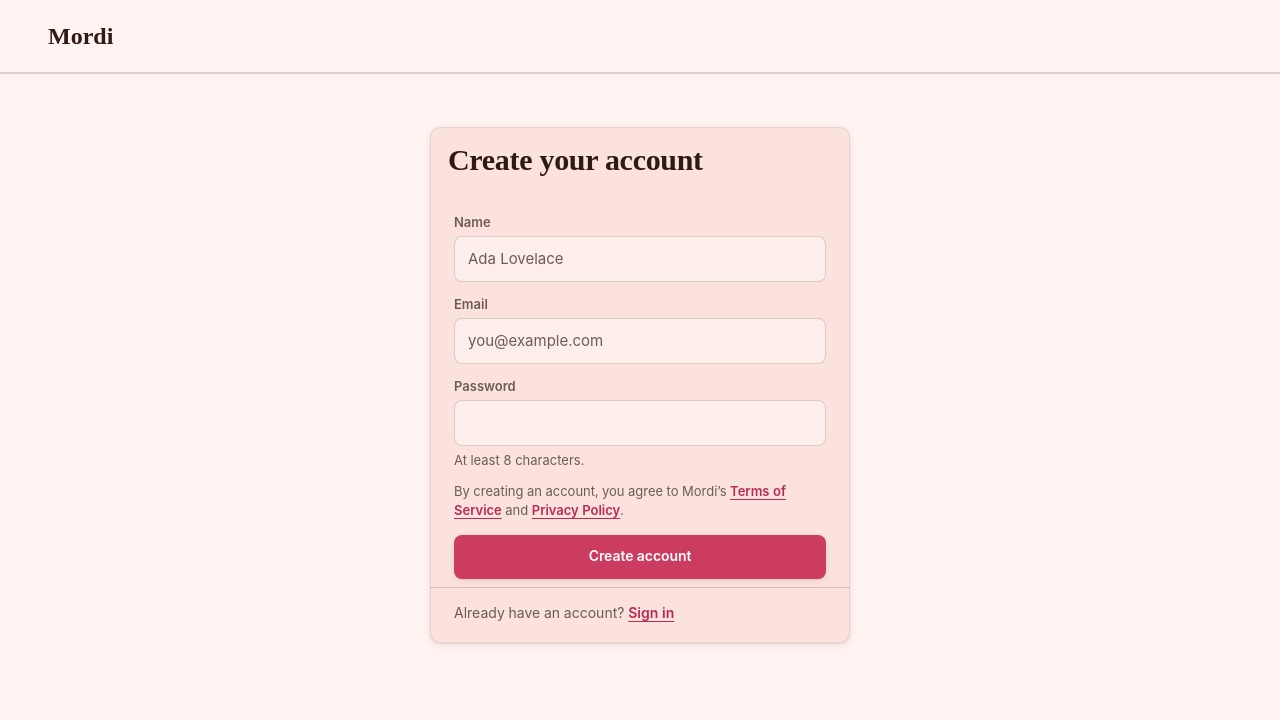
Test: Register › says to wait when the rate limit answers
This screenshot has width=1280, height=720.
Type "Test User" into the field labelled "Name" at (640, 259), box [454,236,826,282]
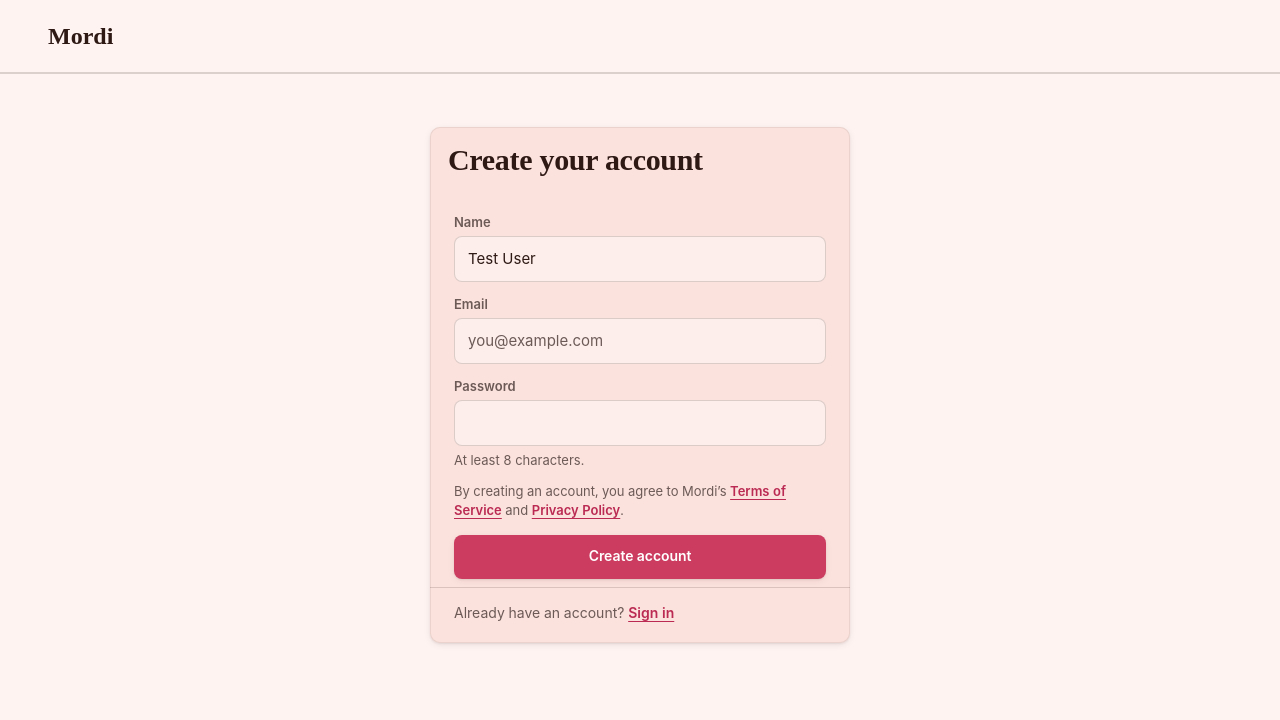
Type "user@example.com" into the field labelled "Email" at (640, 341), box [454,318,826,364]
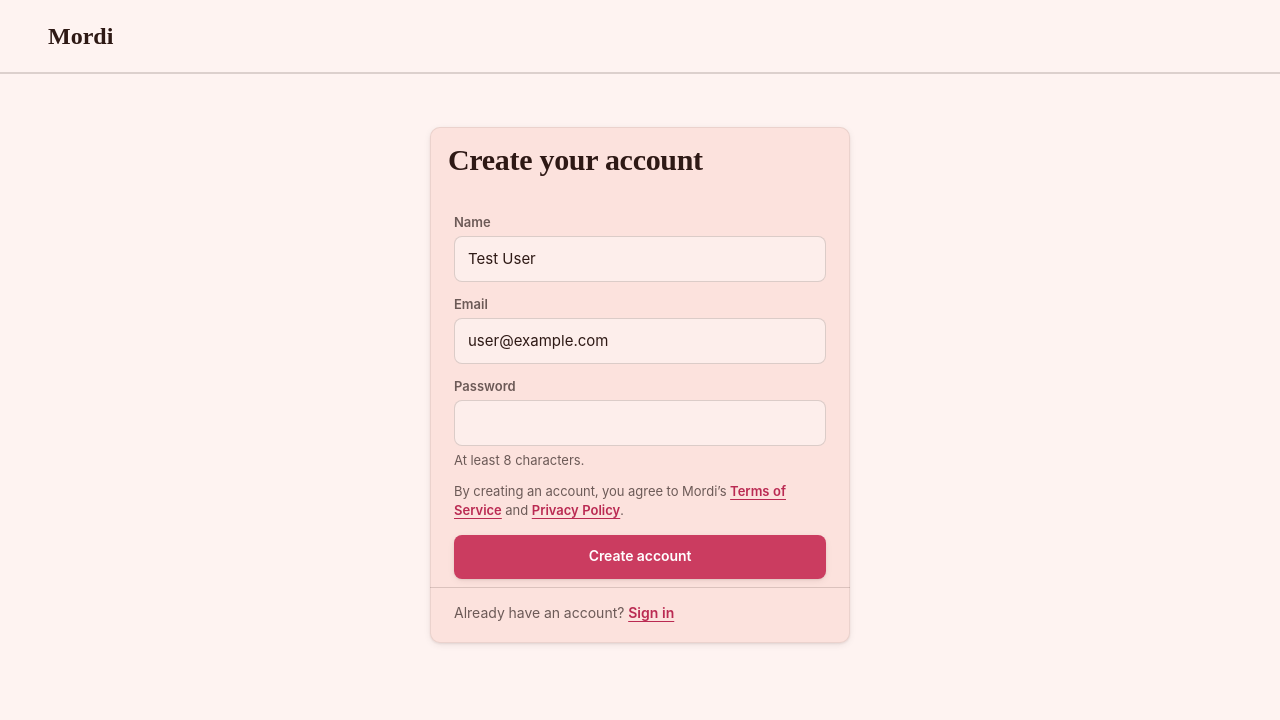
Type "correcthorse" into the password field labelled "Password" at (640, 423), box [454,400,826,446]
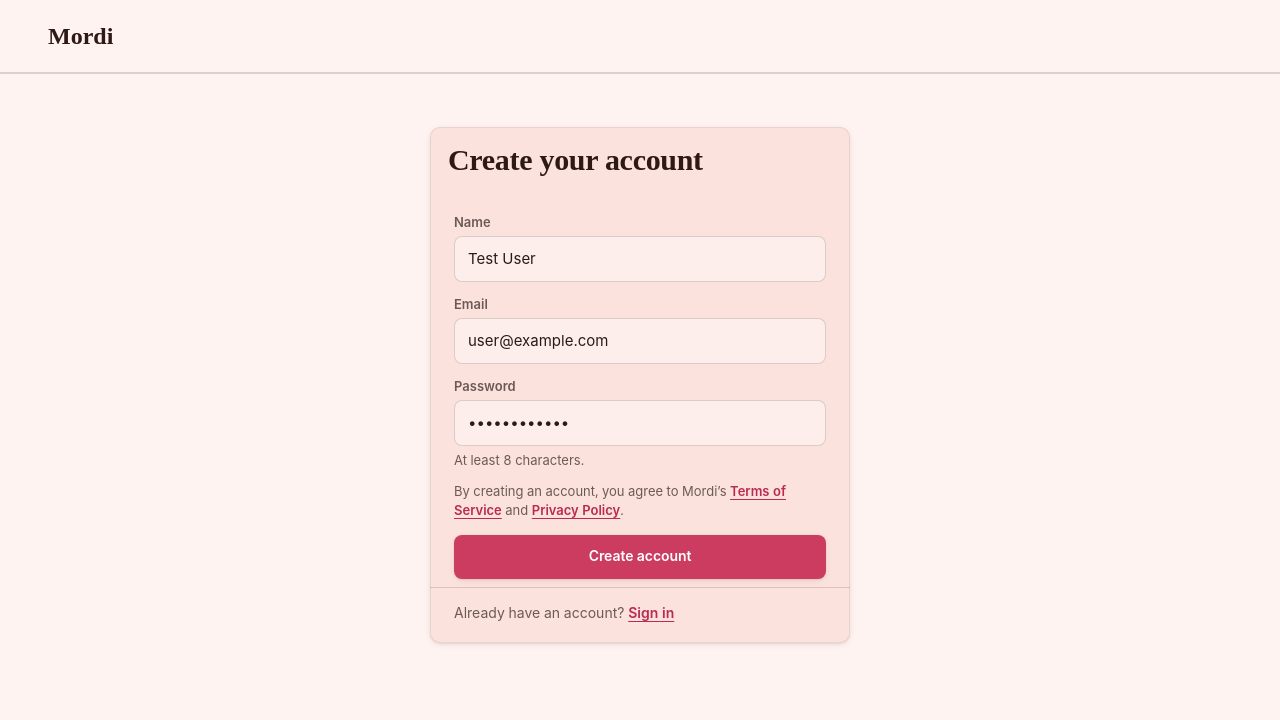
Click the button "Create account" at (640, 557), box [454,535,826,579]
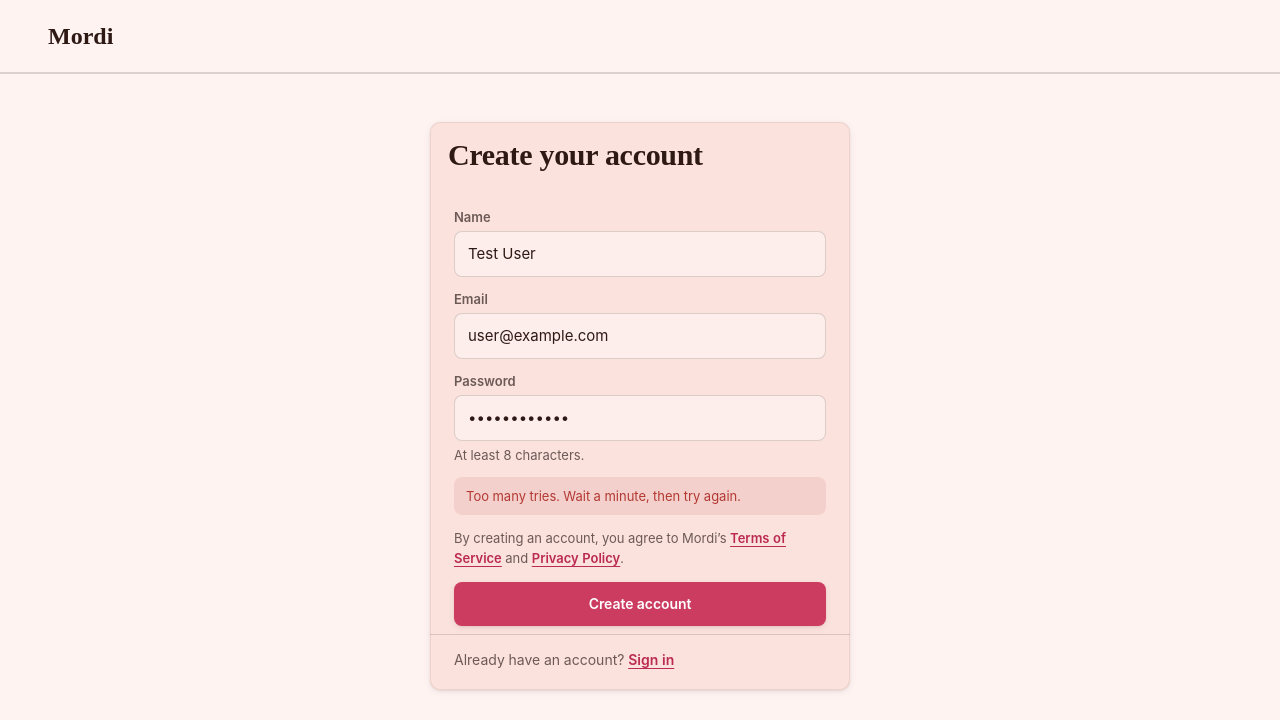
Result: the text "Too many tries. Wait a minute, then try again." is shown at [454,476,826,515]
